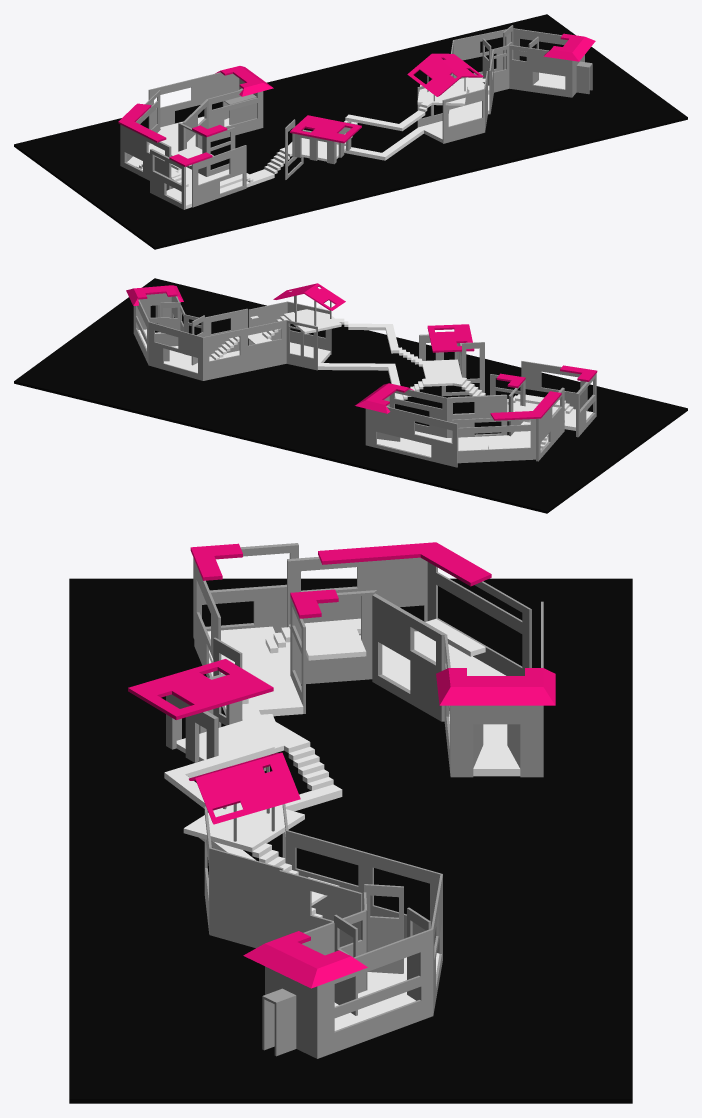
3 views of the same model, one above another, from view 1: azimuth 30°, elevation 25°; view 2: azimuth 150°, elevation 25°; view 3: azimuth 270°, elevation 25° (orthographic). The views are drawn at different scales.
Parts seen in each view (by area): view 1: Group1, Group41, G_1_1, G_5_1, Group26, G_3_1, Group20, Group25, G_1_1_1, Group30, Group22, Group36 (+17 smaller); view 2: Group1, Group32, G_1_1, G_2_1_1, Group12, Group25, G_2_1, Group41, Group20, G_5_1, G_1_1_1, G_3_1 (+18 smaller); view 3: Group1, Group41, Group20, Group39, G_3_1, G_2_1, G_0_1, Group25, Group32, Group22, Group26, Group10 (+19 smaller).
Part boxes in pixels (x1,y1,x2,y2): Group1: [14, 14, 687, 249]; Group41: [509, 28, 592, 97]; G_1_1: [148, 72, 239, 129]; G_5_1: [192, 145, 246, 207]; Group26: [407, 53, 483, 96]; G_3_1: [120, 124, 171, 189]; Group20: [127, 129, 259, 208]; Group25: [336, 84, 467, 145]; G_1_1_1: [207, 89, 261, 141]; Group30: [442, 89, 484, 143]; Group22: [290, 115, 361, 143]; Group36: [419, 77, 489, 142]; Group1: [14, 278, 687, 513]; Group32: [203, 320, 286, 380]; G_1_1: [367, 406, 457, 467]; G_2_1_1: [451, 418, 535, 463]; Group12: [148, 322, 202, 380]; Group25: [283, 306, 422, 366]; G_2_1: [447, 394, 507, 437]; Group41: [133, 293, 185, 364]; Group20: [447, 399, 592, 450]; G_5_1: [521, 361, 587, 411]; G_1_1_1: [389, 389, 446, 437]; G_3_1: [536, 387, 564, 461]; Group1: [69, 578, 632, 1103]; Group41: [262, 910, 433, 1058]; Group20: [207, 626, 505, 716]; Group39: [209, 848, 283, 948]; G_3_1: [287, 557, 427, 635]; G_2_1: [372, 593, 446, 721]; G_0_1: [450, 705, 543, 777]; Group25: [164, 741, 304, 852]; Group32: [286, 830, 441, 953]; Group22: [128, 659, 273, 719]; Group26: [189, 752, 300, 824]; Group10: [334, 884, 430, 1015].
Bounding box in the file's own units: 46365 × 6367 × 21203.
